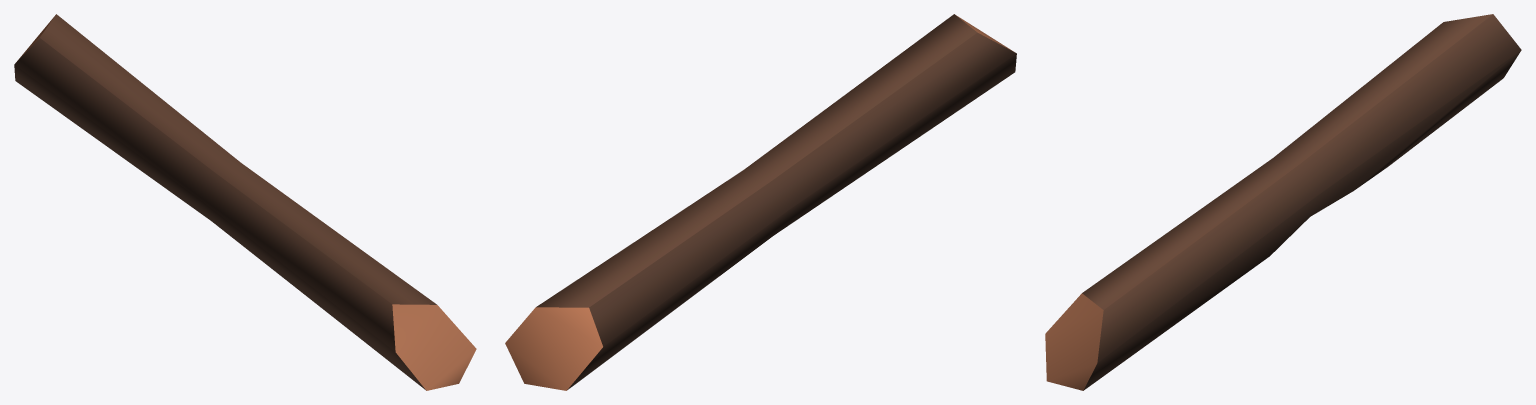
The model's file is Tree_Log_2G.fbx.
3 views of the same model, side by side, from view 1: azimuth 30°, elevation 25°; view 2: azimuth 150°, elevation 25°; view 3: azimuth 330°, elevation 25° (orthographic). The views are drawn at different scales.
Parts seen in each view (by area): view 1: Tree_Log_2G; view 2: Tree_Log_2G; view 3: Tree_Log_2G.
Part boxes in pixels (box(x1,y1,x2,y2)): Tree_Log_2G: box(14, 14, 476, 390); Tree_Log_2G: box(505, 14, 1016, 390); Tree_Log_2G: box(1045, 14, 1521, 390).
Bounding box in the file's own units: 0.3713 × 0.3633 × 3.56.
